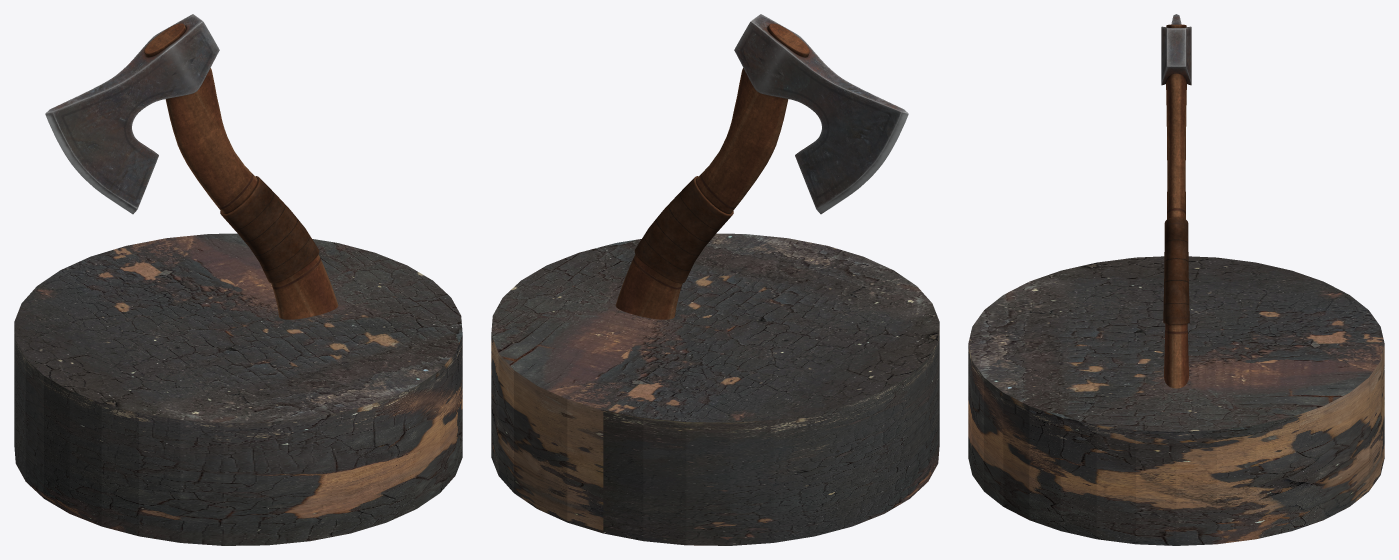
Rendered from axe.glb.
3 views of the same model, side by side, from view 1: azimuth 30°, elevation 25°; view 2: azimuth 150°, elevation 25°; view 3: azimuth 270°, elevation 25° (orthographic). The views are drawn at different scales.
Visible parts, largest first — view 1: Cylinder, Object_2; view 2: Cylinder, Object_2; view 3: Cylinder, Object_2.
Boxes of the visible parts, left/top/right/bottom form: Cylinder: left=14, top=233, right=462, bottom=545; Object_2: left=45, top=14, right=338, bottom=319; Cylinder: left=491, top=233, right=939, bottom=545; Object_2: left=615, top=14, right=908, bottom=319; Cylinder: left=968, top=256, right=1384, bottom=545; Object_2: left=1161, top=14, right=1191, bottom=388.
Bounding box in the file's own units: 2 × 2.18 × 2.
Materials: 2 (2 with a texture image).
